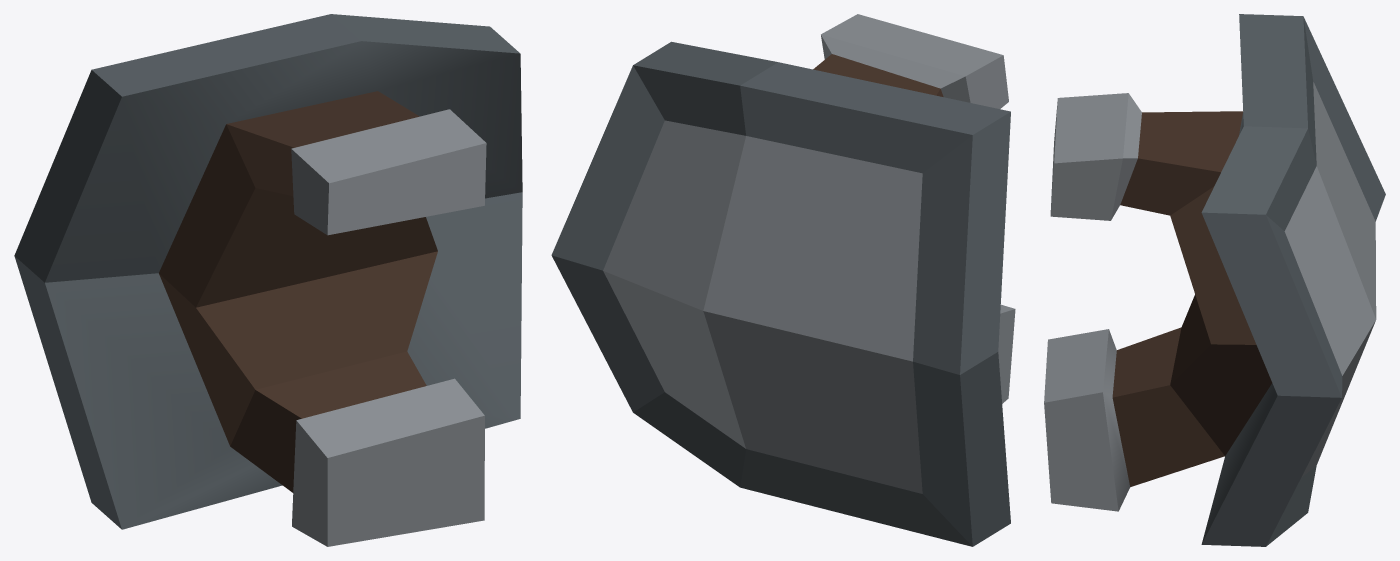
Rendered from Chr_ElbowAttachLeft_06_Static.fbx.
3 renders of one model, left to right at view 1: azimuth 30°, elevation 25°; view 2: azimuth 150°, elevation 25°; view 3: azimuth 270°, elevation 25°, orthographic. The views are drawn at different scales.
Visible parts, largest first — view 1: Chr_ElbowAttachLeft_06_Static; view 2: Chr_ElbowAttachLeft_06_Static; view 3: Chr_ElbowAttachLeft_06_Static.
Boxes of the visible parts, box(x1,y1,x2,y2) form: Chr_ElbowAttachLeft_06_Static: box(14, 14, 522, 546); Chr_ElbowAttachLeft_06_Static: box(551, 14, 1015, 546); Chr_ElbowAttachLeft_06_Static: box(1044, 14, 1385, 546).
Size of the model in its own units: 0.153 by 0.1381 by 0.1086.
